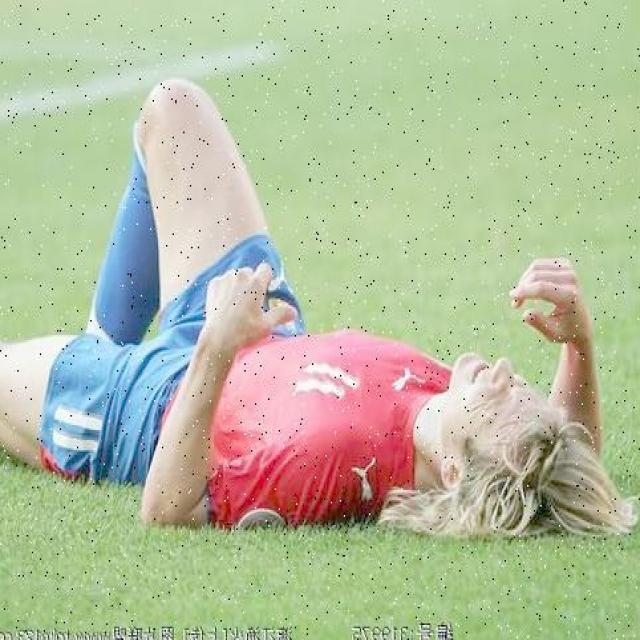fall: (1, 104, 622, 528)
